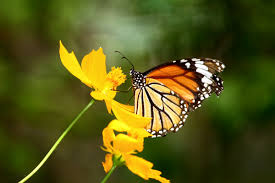butterfly: (131, 57, 225, 140)
flower: (59, 50, 127, 109), (103, 131, 164, 182)
